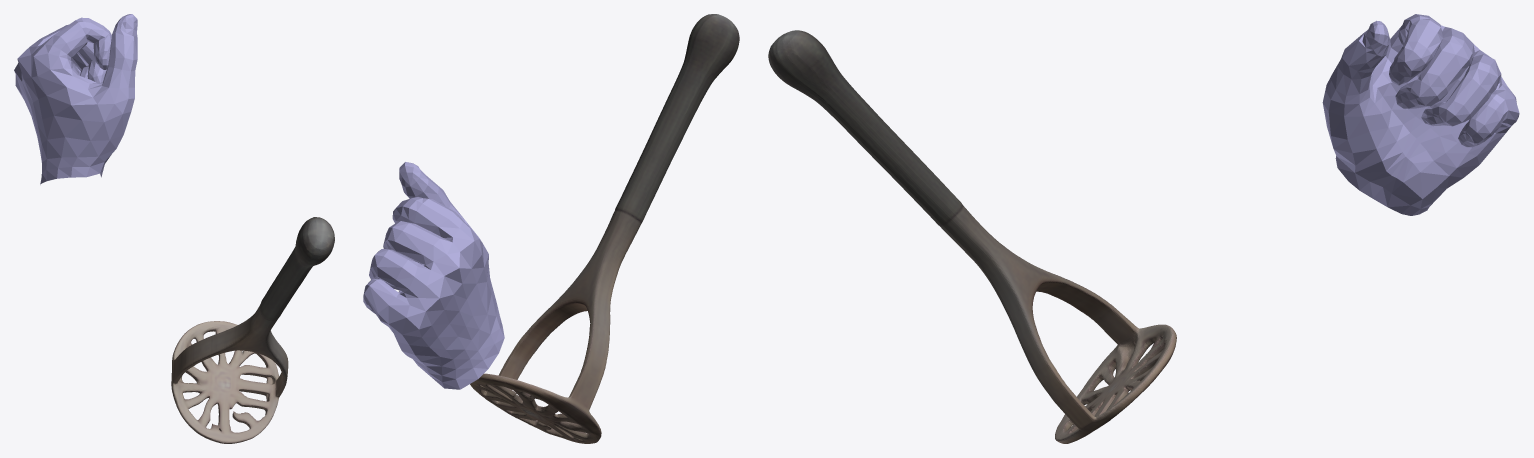
Rendered from frame_0025_source_000025_hand_object.glb.
3 views of the same model, side by side, from view 1: azimuth 30°, elevation 25°; view 2: azimuth 150°, elevation 25°; view 3: azimuth 270°, elevation 25° (orthographic). The views are drawn at different scales.
Visible parts, largest first — view 1: world; view 2: world; view 3: world.
Part boxes in pixels (x1=…): world: x1=14, y1=14, x2=334, y2=443; world: x1=363, y1=14, x2=739, y2=443; world: x1=768, y1=14, x2=1519, y2=443.
Size of the model in its own units: 0.0915 by 0.2345 by 0.3783.
